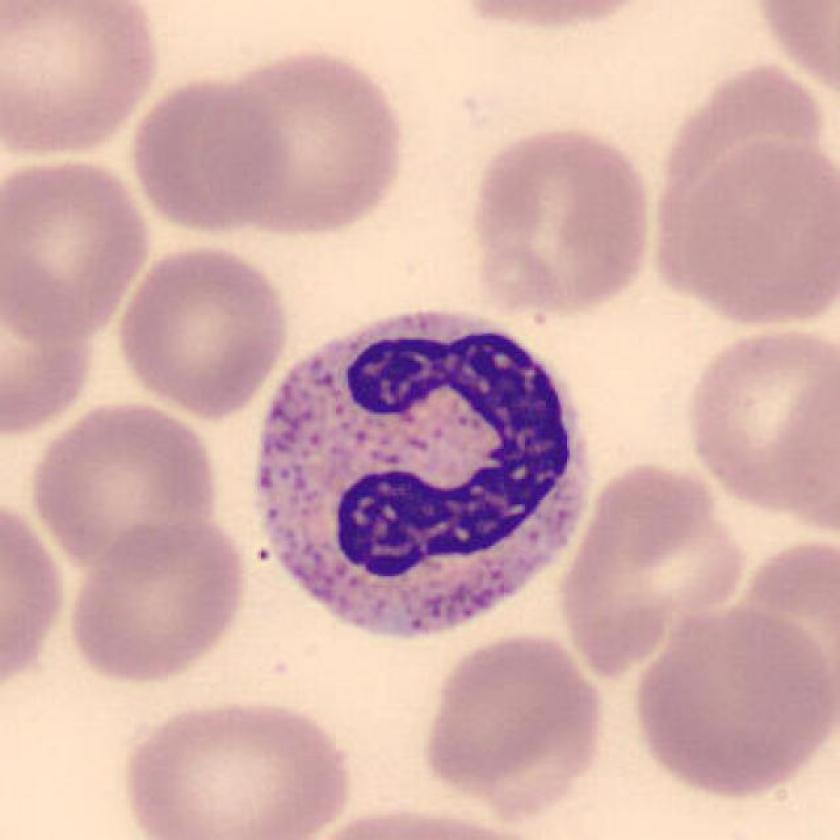neutrophil: (260, 311, 588, 639)
